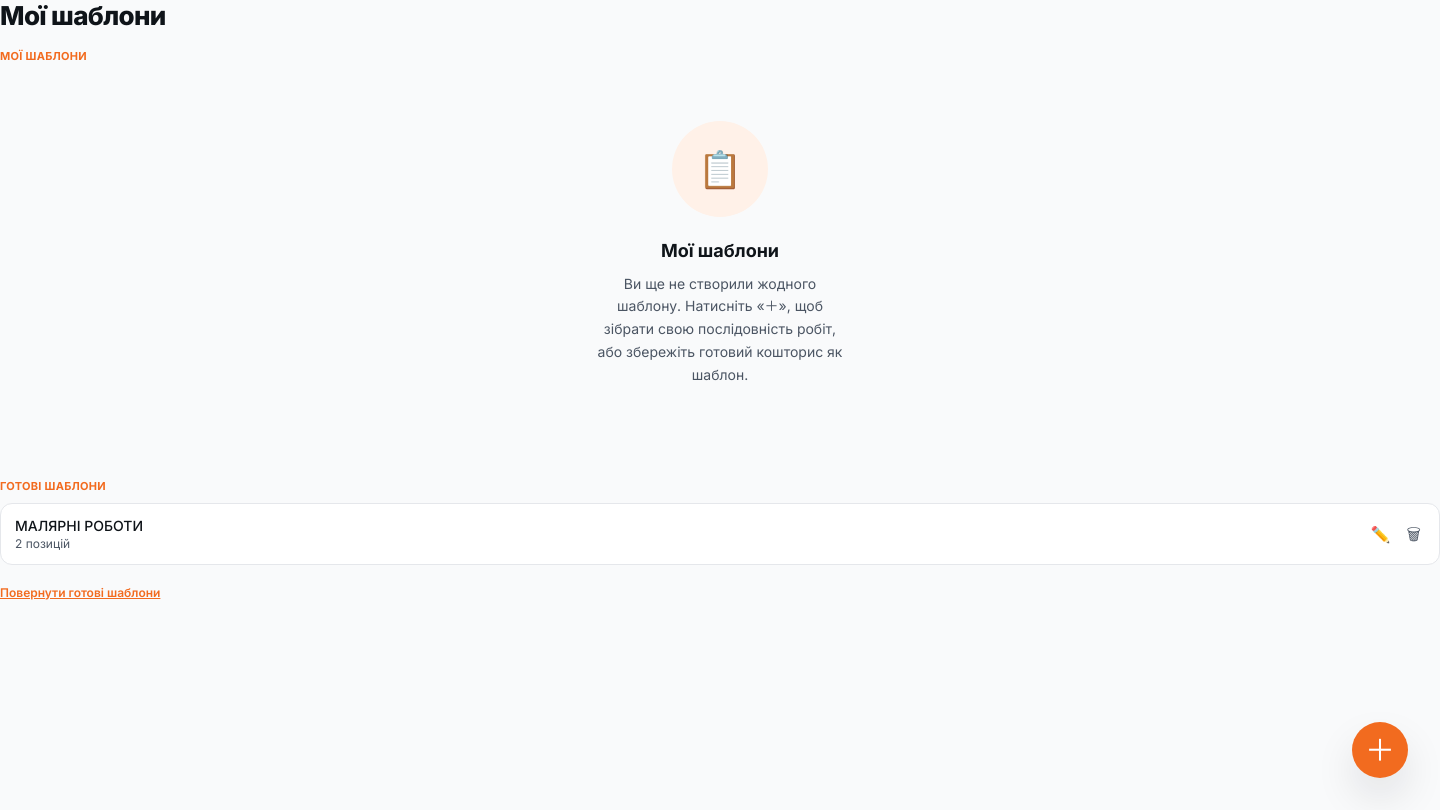
TemplatesPage — ready-made templates are editable too › closing with unsaved changes asks, and «Не зберігати» writes nothing
Click the button named "Редагувати": (1381, 534) x1=1367 y1=522 x2=1395 y2=546
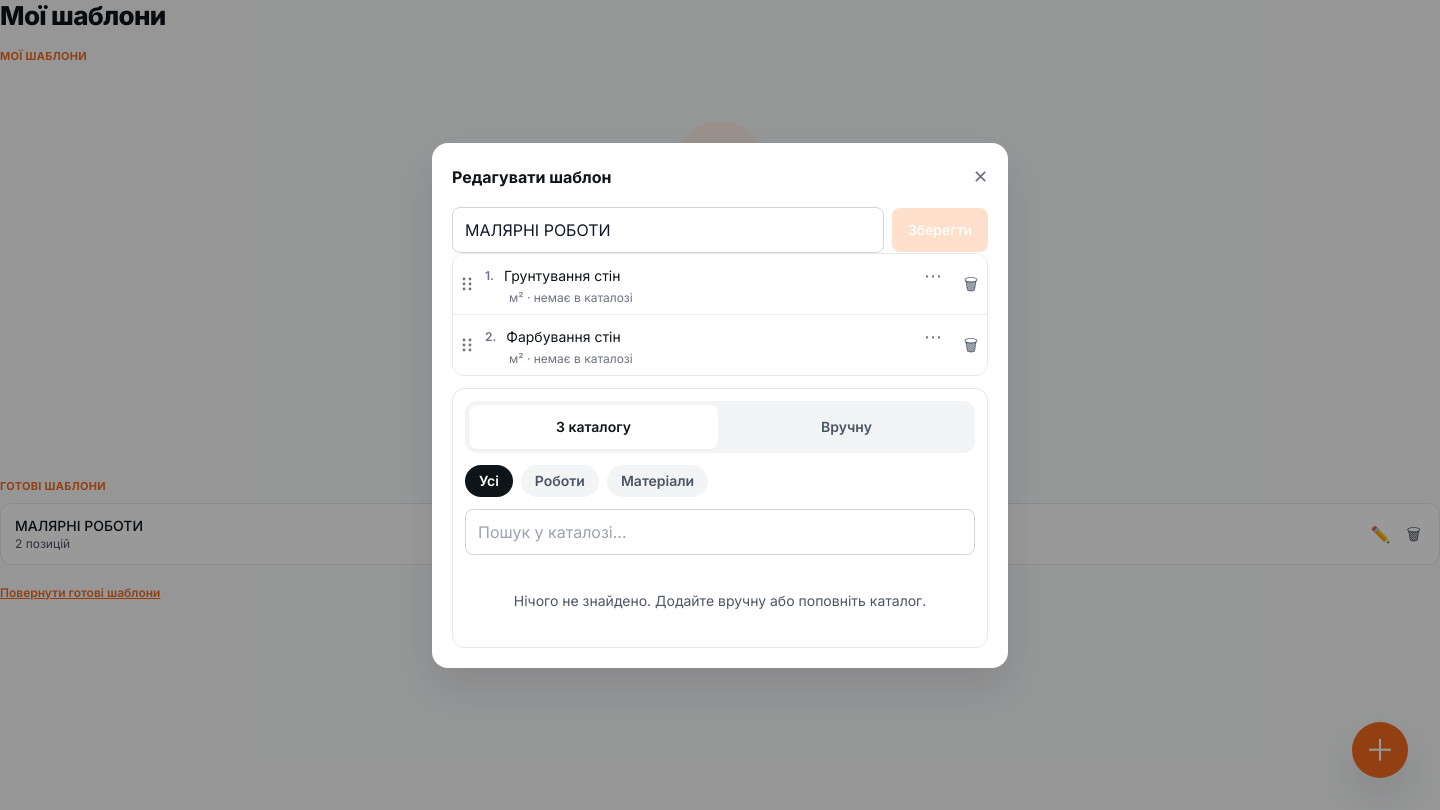
// Remove a position — a draft change like any other.
Click the button named "Прибрати позицію": (971, 284) x1=955 y1=254 x2=987 y2=314
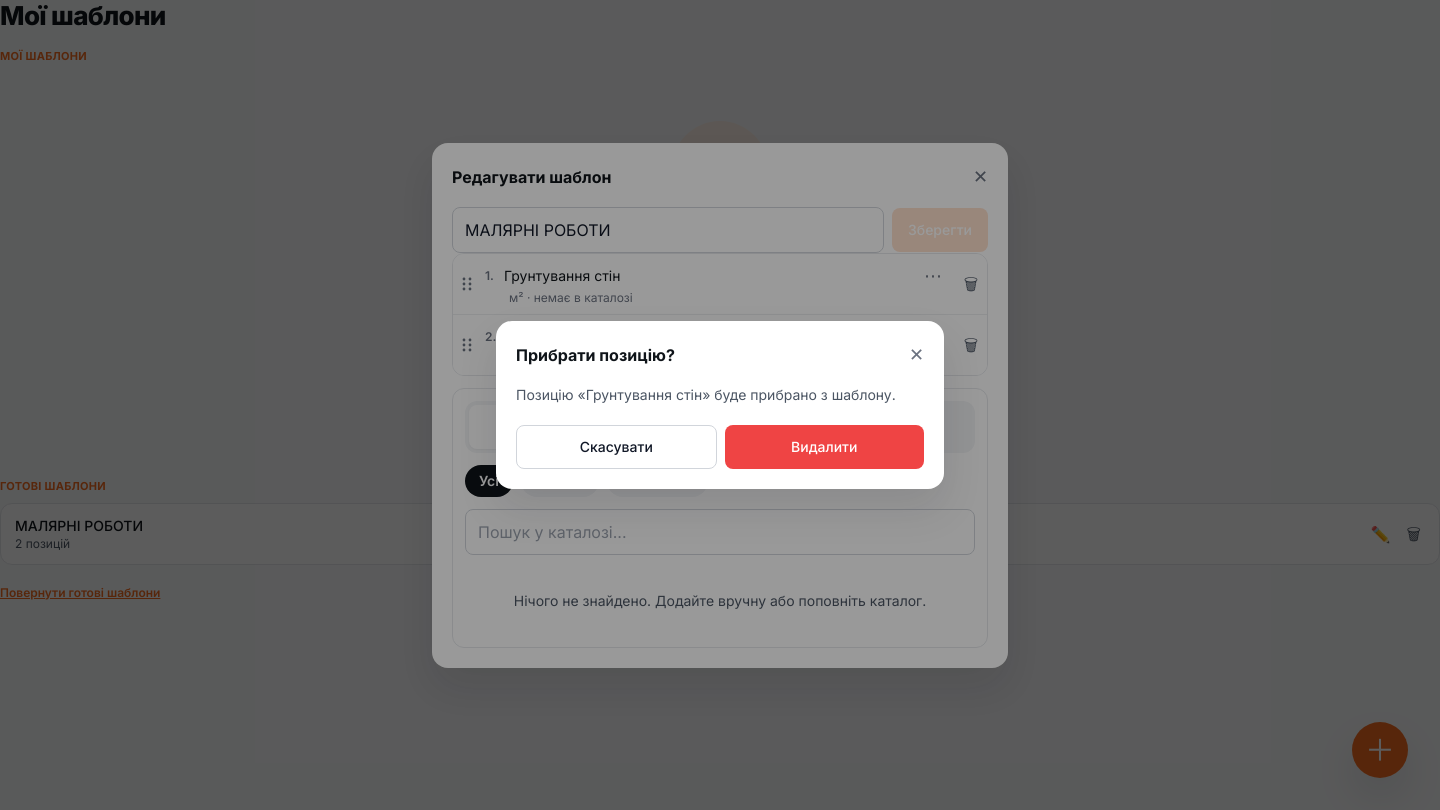
Click the button "Видалити": (824, 447) x1=724 y1=425 x2=924 y2=469
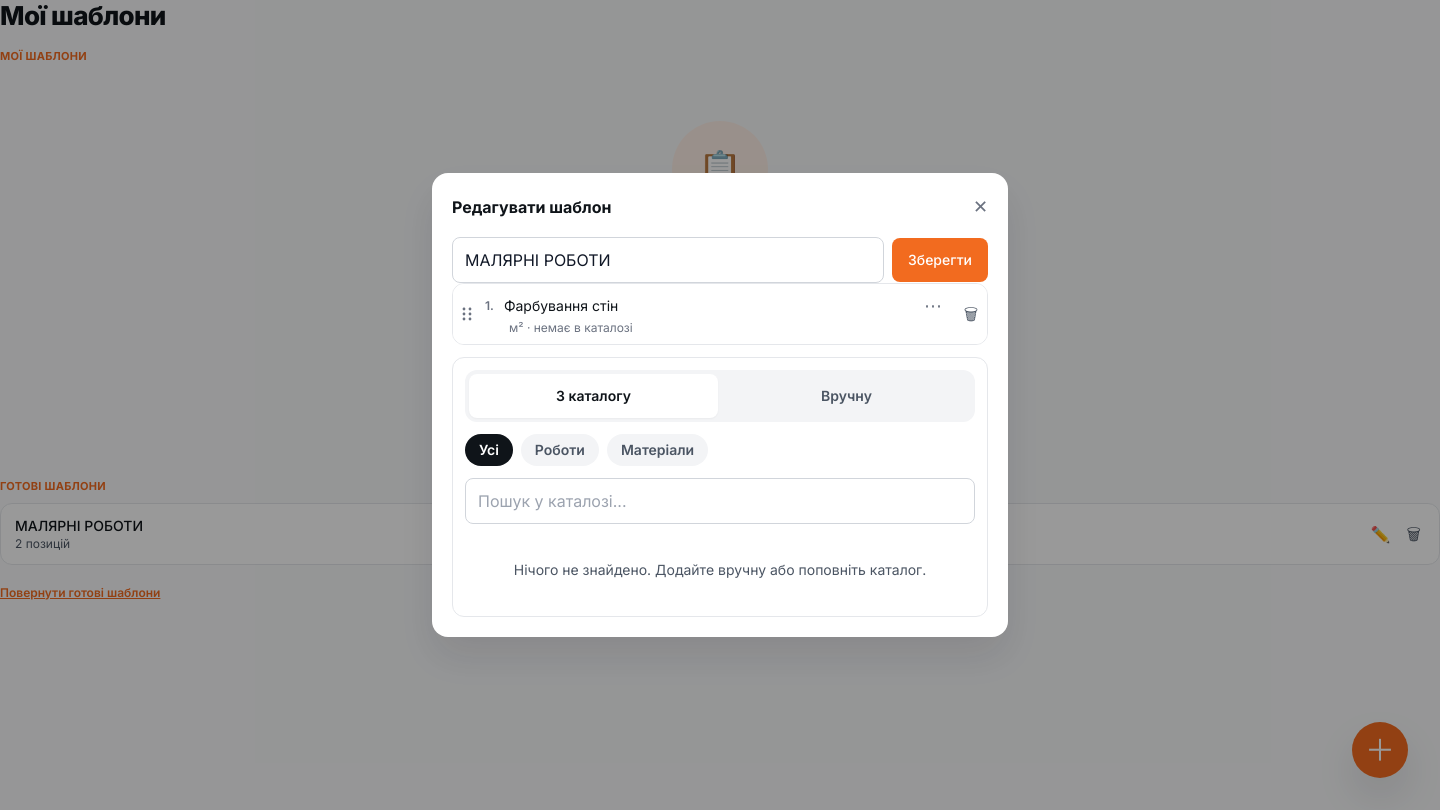
Result: the button "Грунтування стін" is gone
// ✕ must not drop the rework on the floor.
Click the button named "Закрити": (86, 405) x1=0 y1=0 x2=1439 y2=809
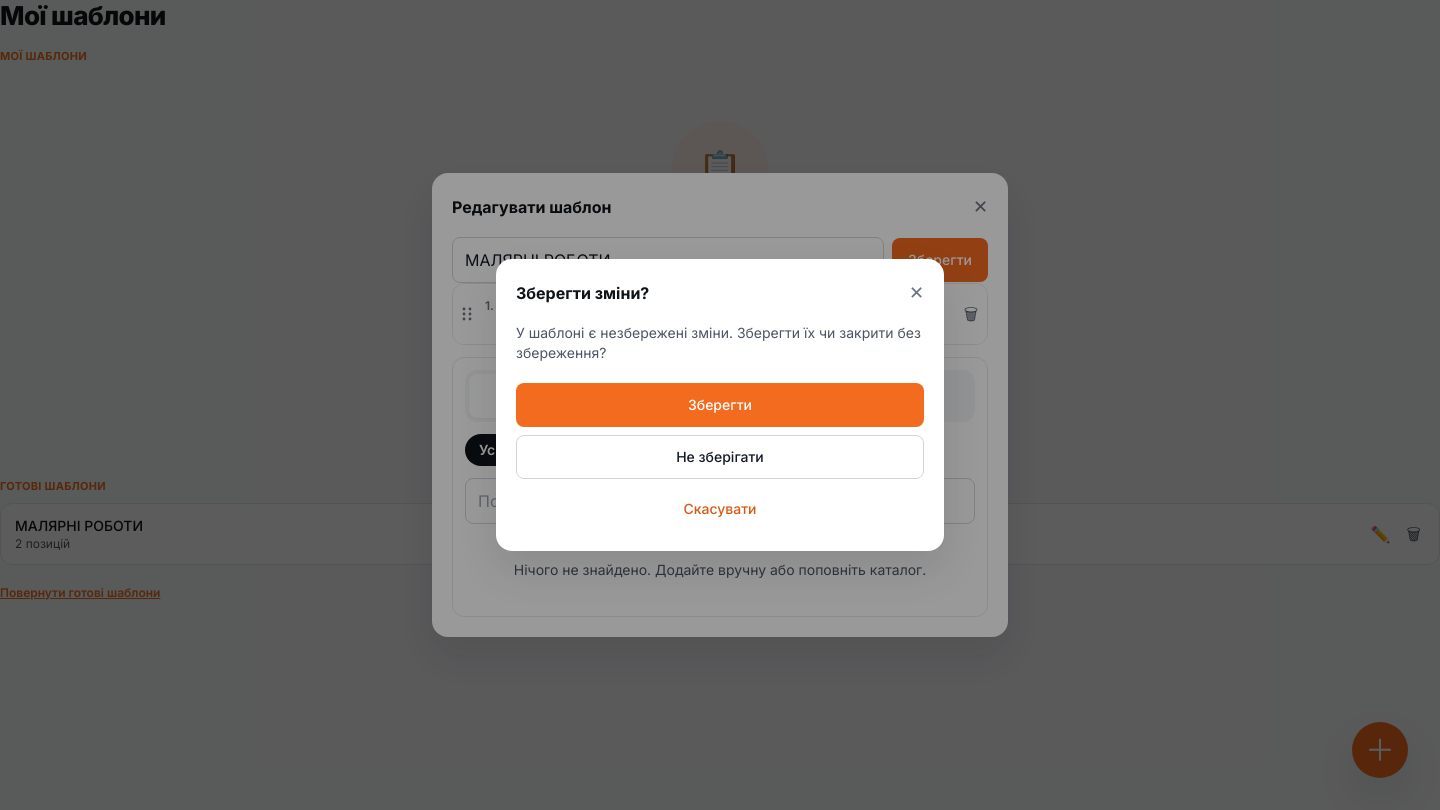
Result: the heading "Зберегти зміни?" is shown at x1=516 y1=281 x2=649 y2=305
Click the button "Не зберігати": (720, 457) x1=516 y1=435 x2=924 y2=479
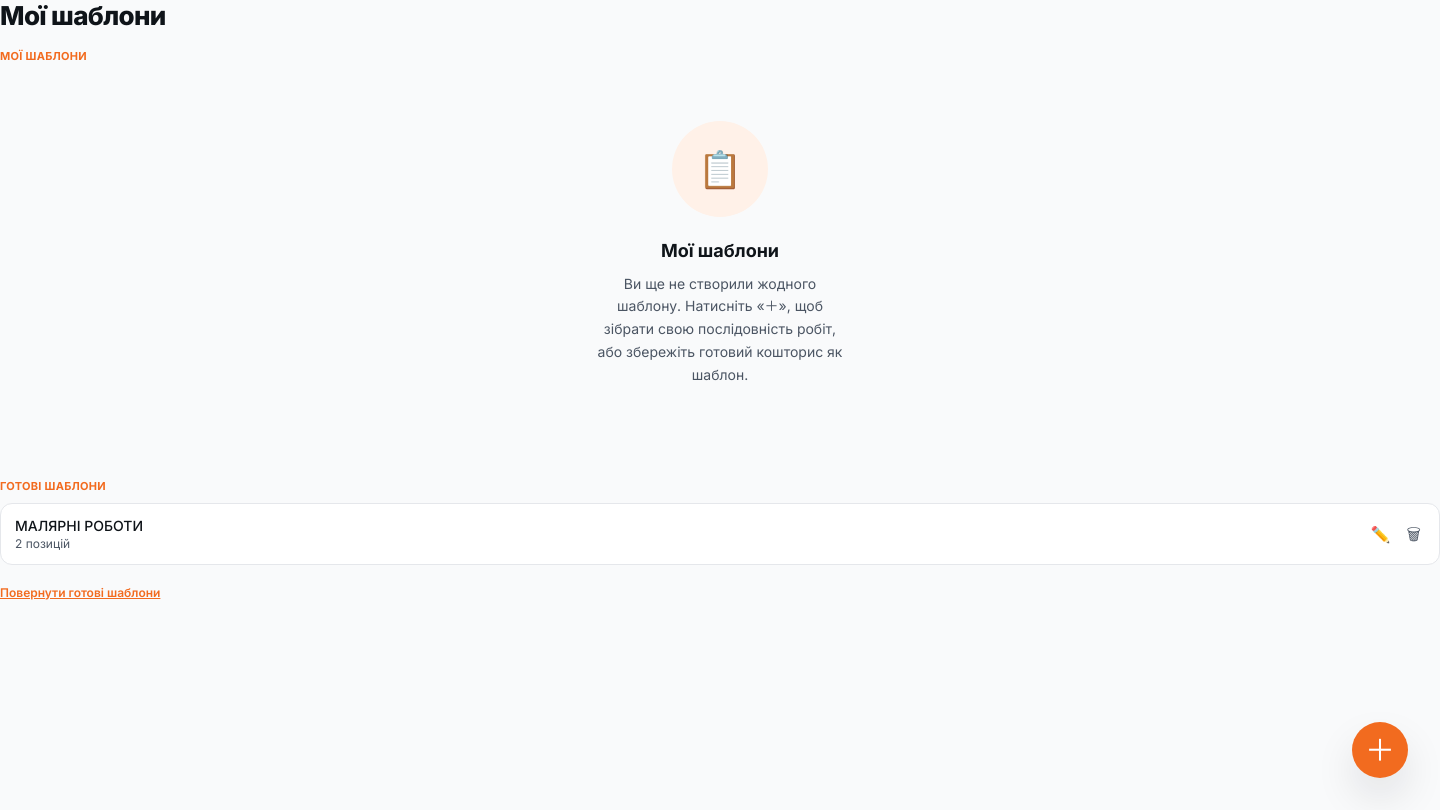
Result: the heading "Редагувати шаблон" is gone
